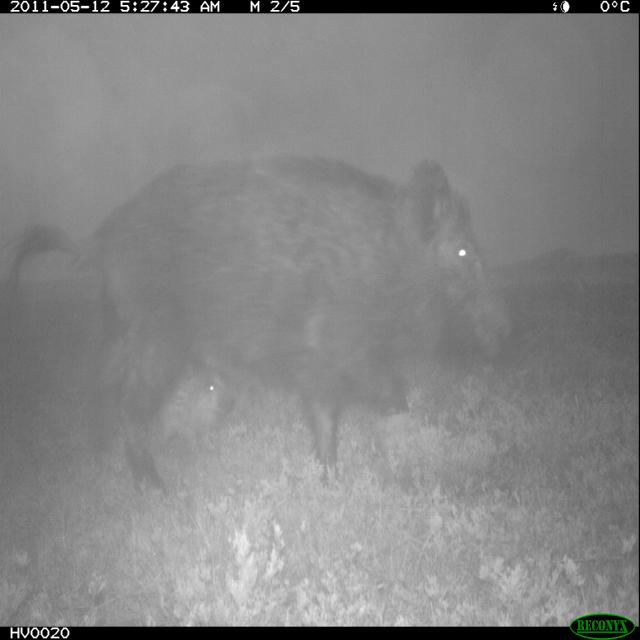boar: (1, 125, 546, 503), (129, 345, 248, 459)
